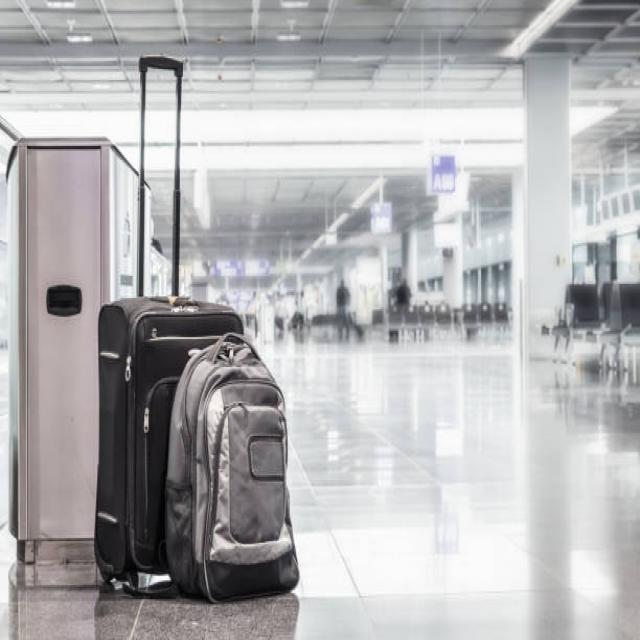Backpacks: (164, 326, 302, 606)
